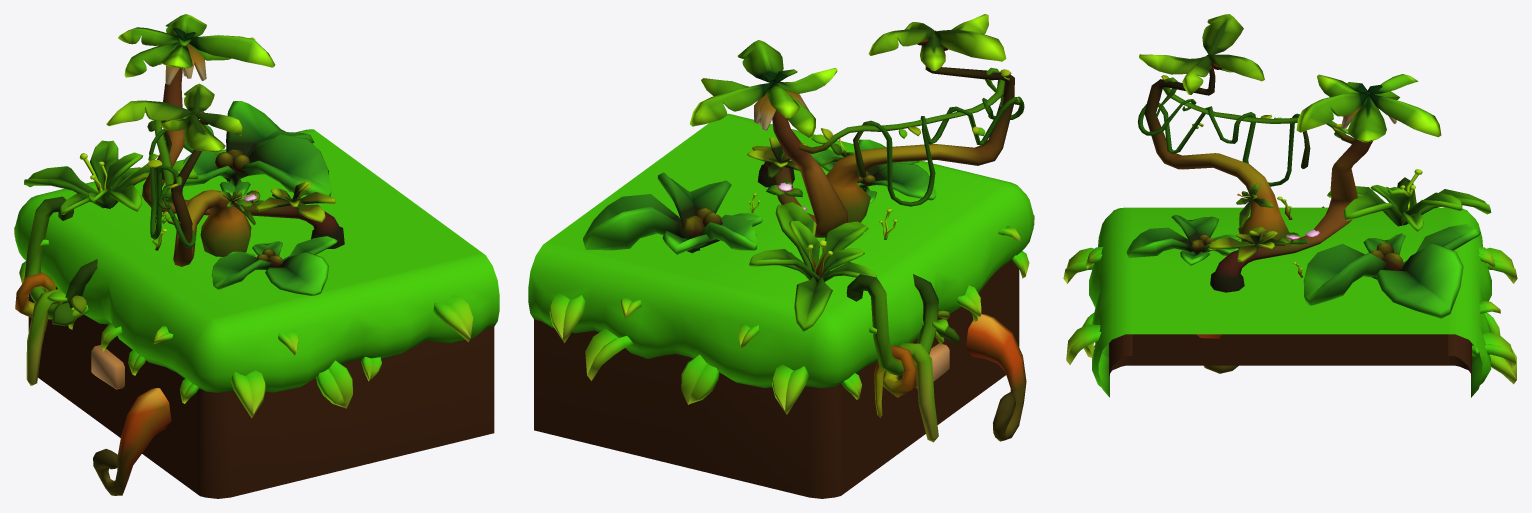
File: Island_03.fbx
3 views of the same model, side by side, from view 1: azimuth 30°, elevation 25°; view 2: azimuth 150°, elevation 25°; view 3: azimuth 270°, elevation 25° (orthographic). The views are drawn at different scales.
Visible parts, largest first — view 1: Island_03; view 2: Island_03; view 3: Island_03.
Boxes of the visible parts, left/top/right/bottom form: Island_03: left=14, top=14, right=499, bottom=498; Island_03: left=528, top=14, right=1034, bottom=498; Island_03: left=1063, top=14, right=1517, bottom=397.
Size of the model in its own units: 4682 by 5170 by 5752.
